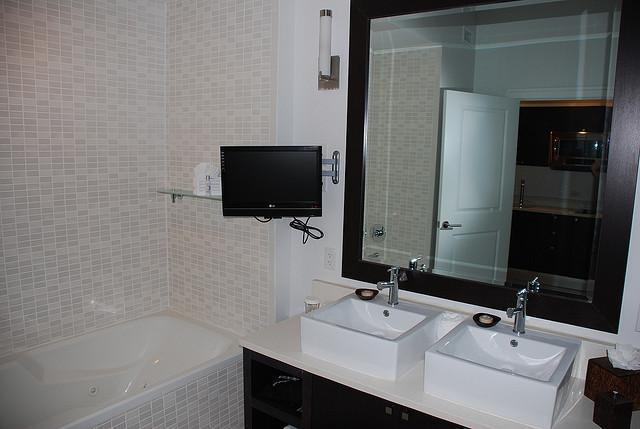Lavamanos: (422, 288, 579, 428), (304, 264, 433, 388)
